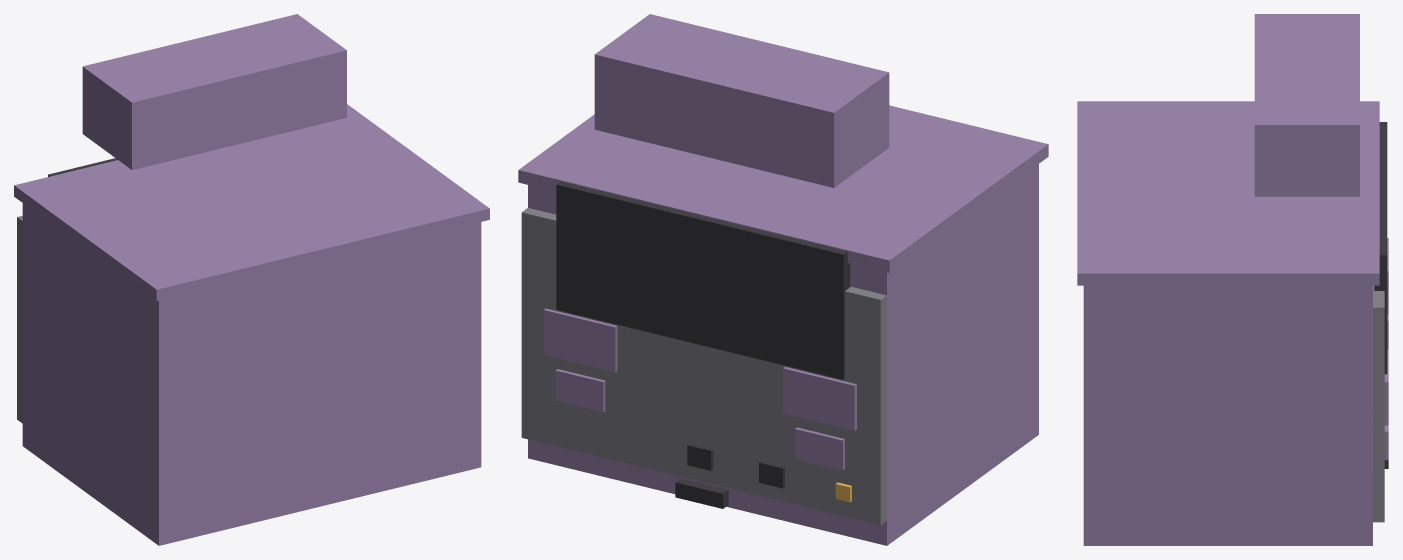
Rendered from chassis.gltf.
3 renders of one model, left to right at view 1: azimuth 30°, elevation 25°; view 2: azimuth 150°, elevation 25°; view 3: azimuth 270°, elevation 25°, orthographic. The views are drawn at different scales.
Visible parts, largest first — view 1: chassis; view 2: chassis; view 3: chassis.
Part boxes in pixels (x1,y1,x2,y2): chassis: (14, 14, 489, 545); chassis: (518, 14, 1048, 545); chassis: (1077, 14, 1388, 545).
Size of the model in its own units: 0.155 by 0.165 by 0.1185.
